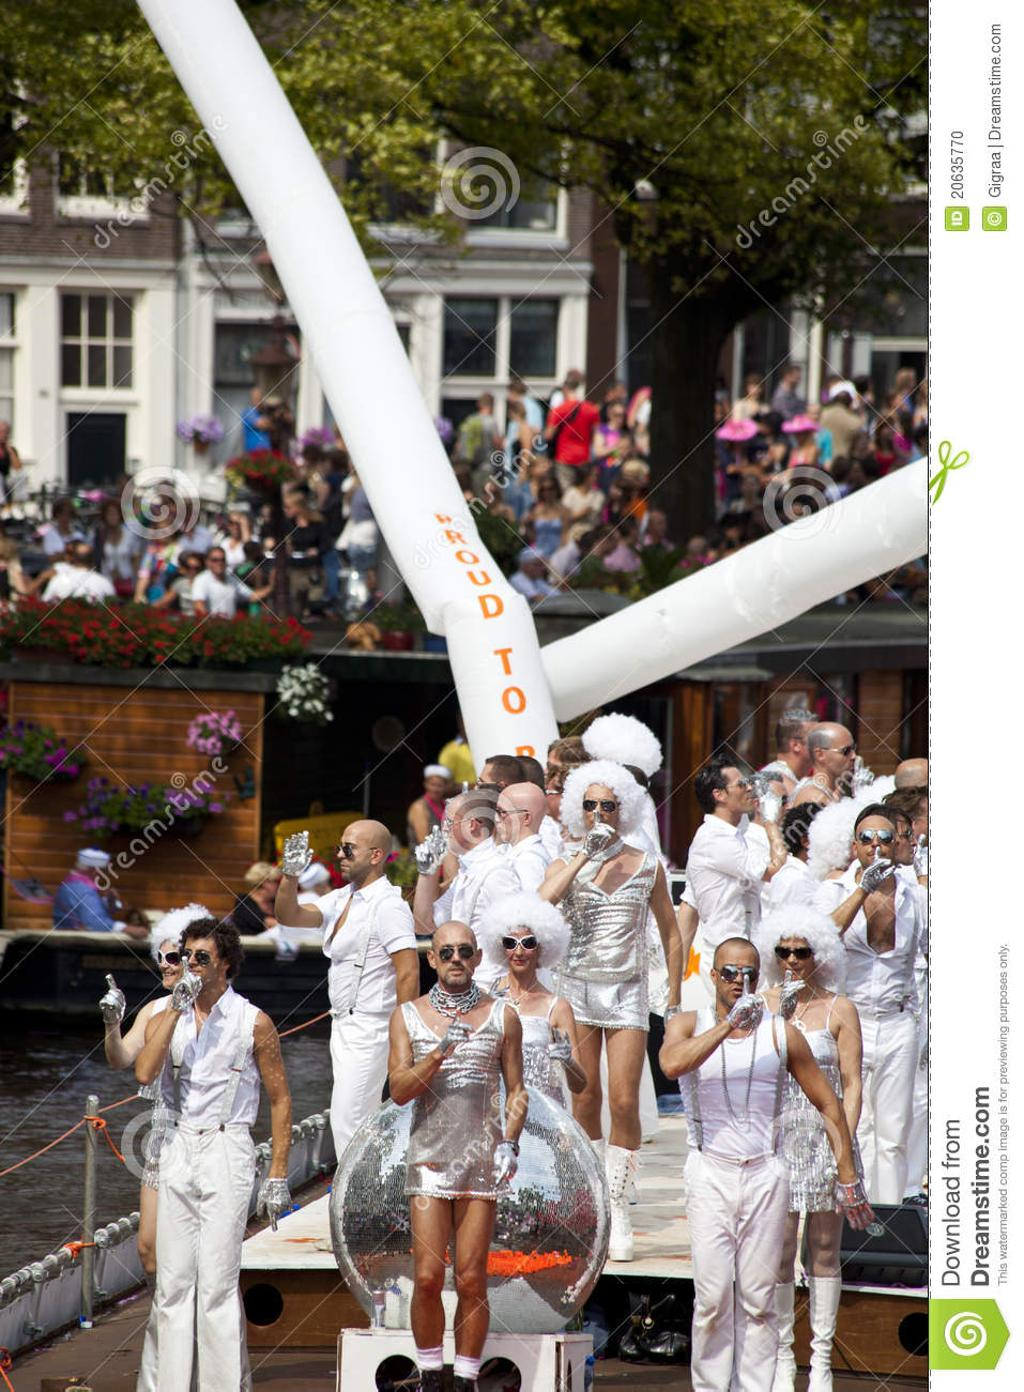face: (715, 956, 758, 1010), (434, 935, 475, 984), (183, 943, 221, 988), (582, 791, 617, 836), (857, 823, 892, 870), (337, 833, 373, 878), (776, 936, 811, 980), (720, 768, 753, 813), (504, 929, 537, 972), (824, 734, 855, 777), (158, 944, 186, 986), (495, 799, 522, 841), (889, 822, 913, 866), (802, 724, 826, 765)
